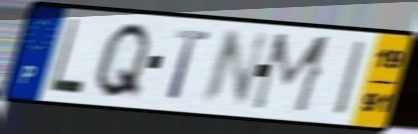I: (331, 37, 369, 119)
L: (46, 16, 86, 97)
M: (247, 31, 336, 118)
N: (196, 28, 273, 109)
Q: (91, 20, 154, 103)
T: (166, 26, 213, 103)
